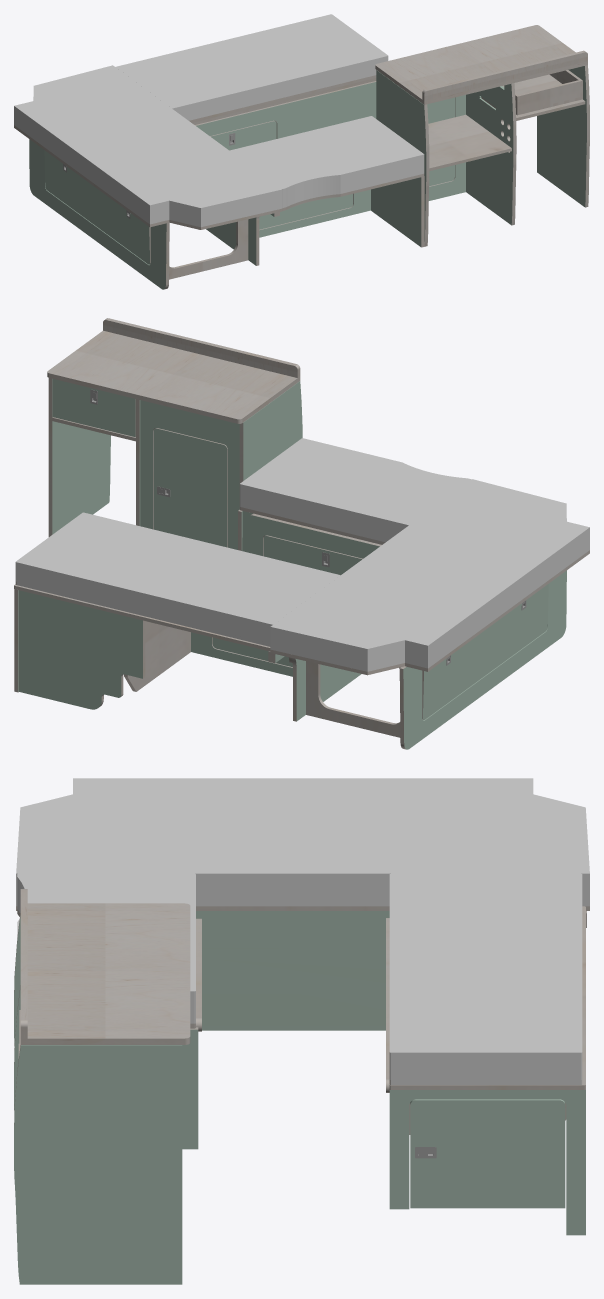
Rendered from Ewe Cushion.glb.
3 views of the same model, one above another, from view 1: azimuth 30°, elevation 25°; view 2: azimuth 150°, elevation 25°; view 3: azimuth 270°, elevation 25° (orthographic). The views are drawn at different scales.
Parts seen in each view (by area): view 1: Body1.029, Body1.031, Body1.033, Body1.004, Body1.021, Body1.019, Body1.015, Body1.014, Body1.006, Body1.012, Body1.003, Body1.023 (+16 smaller); view 2: Body1.029, Body1.031, Body1.033, Body1.004, Body1, Body1.020, Body1.019, Body1.015, Body1.014, Body1.010, Body1.006, Body1.024 (+13 smaller); view 3: Body1.029, Body1.031, Body1.019, Body1.004, Body1.017, Body1.018, Body1.008, Body1.033, Body1.023, Body1.034, Body1.002, Body1.030 (+2 smaller).
Boxes of the visible parts, left/top/right/bottom form: Body1.029: left=14, top=65, right=282, bottom=227; Body1.031: left=115, top=14, right=388, bottom=120; Body1.033: left=229, top=116, right=424, bottom=207; Body1.004: left=375, top=25, right=587, bottom=104; Body1.021: left=466, top=83, right=516, bottom=225; Body1.019: left=537, top=65, right=589, bottom=207; Body1.015: left=44, top=150, right=150, bottom=264; Body1.014: left=29, top=139, right=169, bottom=289; Body1.006: left=376, top=70, right=429, bottom=246; Body1.012: left=204, top=89, right=376, bottom=138; Body1.003: left=428, top=114, right=511, bottom=171; Body1.023: left=371, top=176, right=424, bottom=247; Body1.029: left=270, top=479, right=589, bottom=671; Body1.031: left=15, top=512, right=340, bottom=646; Body1.033: left=240, top=438, right=471, bottom=542; Body1.004: left=47, top=330, right=300, bottom=423; Body1: left=19, top=590, right=145, bottom=709; Body1.020: left=153, top=428, right=227, bottom=547; Body1.019: left=48, top=378, right=110, bottom=536; Body1.015: left=422, top=584, right=548, bottom=719; Body1.014: left=399, top=570, right=566, bottom=749; Body1.010: left=140, top=400, right=239, bottom=549; Body1.006: left=239, top=381, right=302, bottom=509; Body1.024: left=52, top=379, right=135, bottom=437; Body1.029: left=16, top=778, right=589, bottom=906; Body1.031: left=389, top=873, right=582, bottom=1084; Body1.019: left=14, top=1045, right=182, bottom=1284; Body1.004: left=20, top=903, right=190, bottom=1044; Body1.017: left=196, top=911, right=389, bottom=1030; Body1.018: left=410, top=1099, right=565, bottom=1208; Body1.008: left=389, top=1090, right=585, bottom=1235; Body1.033: left=17, top=873, right=195, bottom=1023; Body1.023: left=182, top=1027, right=198, bottom=1149; Body1.034: left=389, top=906, right=585, bottom=1089; Body1.002: left=20, top=889, right=27, bottom=1038; Body1.030: left=196, top=906, right=389, bottom=910.
Size of the model in its own units: 2.31 by 0.8888 by 1.61.
Materials: 5 (2 with a texture image).
